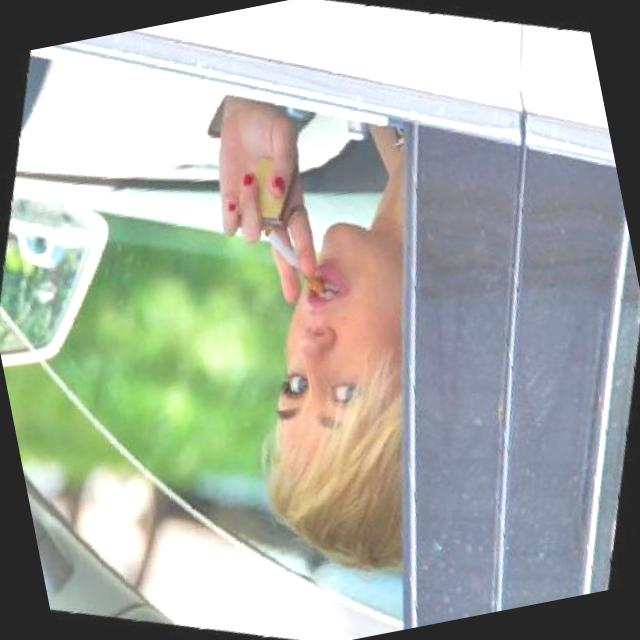smoke: (246, 208, 349, 308)
